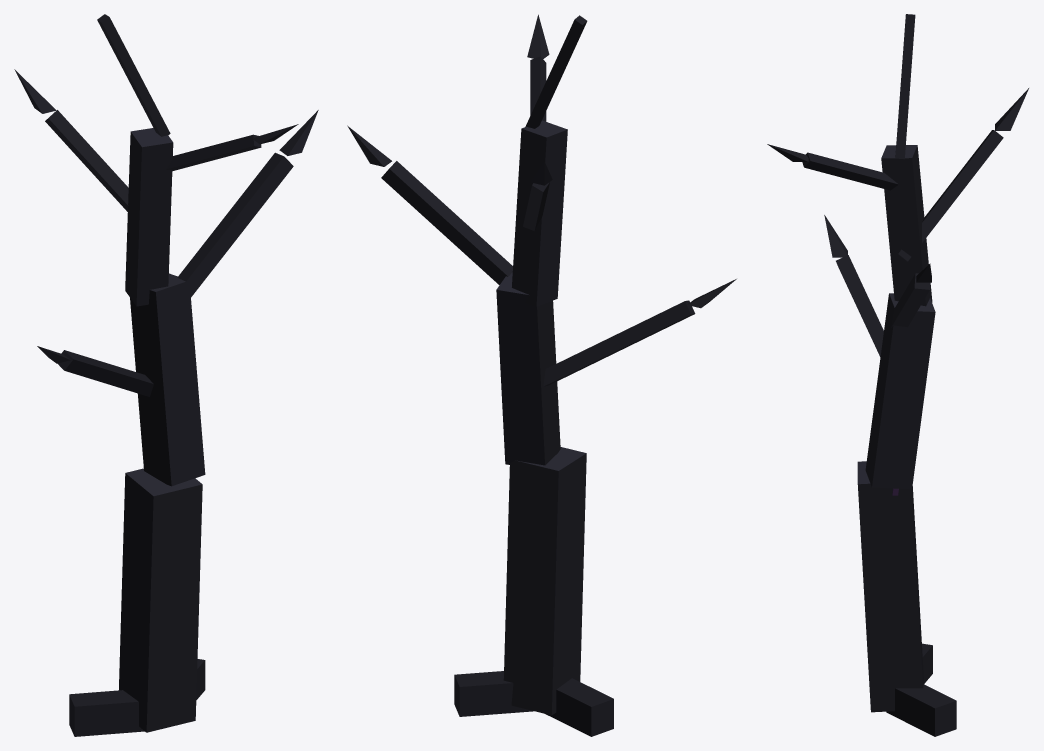
Rendered from black-tree.glb.
3 views of the same model, side by side, from view 1: azimuth 30°, elevation 25°; view 2: azimuth 150°, elevation 25°; view 3: azimuth 270°, elevation 25° (orthographic). The views are drawn at different scales.
Parts seen in each view (by area): view 1: BlackTree; view 2: BlackTree; view 3: BlackTree.
Boxes of the visible parts, <box> form: BlackTree: <box>14,14,318,736</box>; BlackTree: <box>347,14,736,736</box>; BlackTree: <box>767,14,1028,736</box>.
Size of the model in its own units: 1.17 by 2.35 by 0.8355.
Materials: 1 (1 with a texture image).
